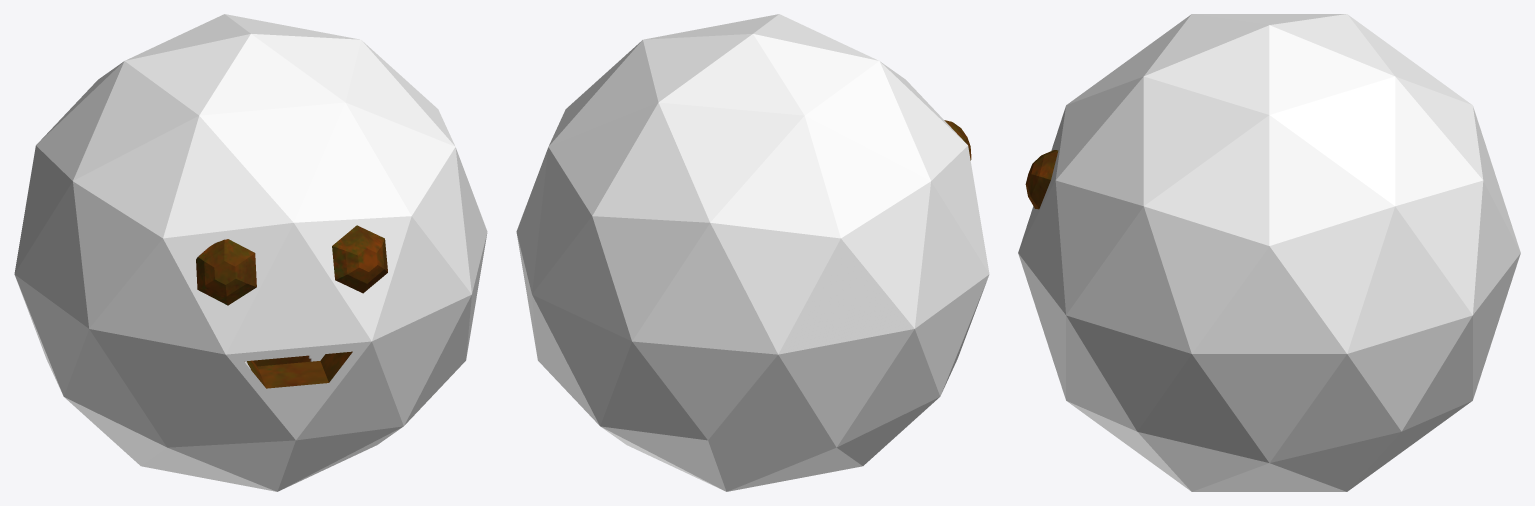
Rendered from Piedra.obj.
3 views of the same model, side by side, from view 1: azimuth 30°, elevation 25°; view 2: azimuth 150°, elevation 25°; view 3: azimuth 270°, elevation 25° (orthographic). The views are drawn at different scales.
Visible parts, largest first — view 1: piedra.002; view 2: piedra.002; view 3: piedra.002.
Part boxes in pixels (<box>): piedra.002: <box>14,14,487,491</box>; piedra.002: <box>516,14,989,491</box>; piedra.002: <box>1018,14,1520,491</box>.
Size of the model in its own units: 4.04 by 4.25 by 4.25.
2 materials, 2 textured.
